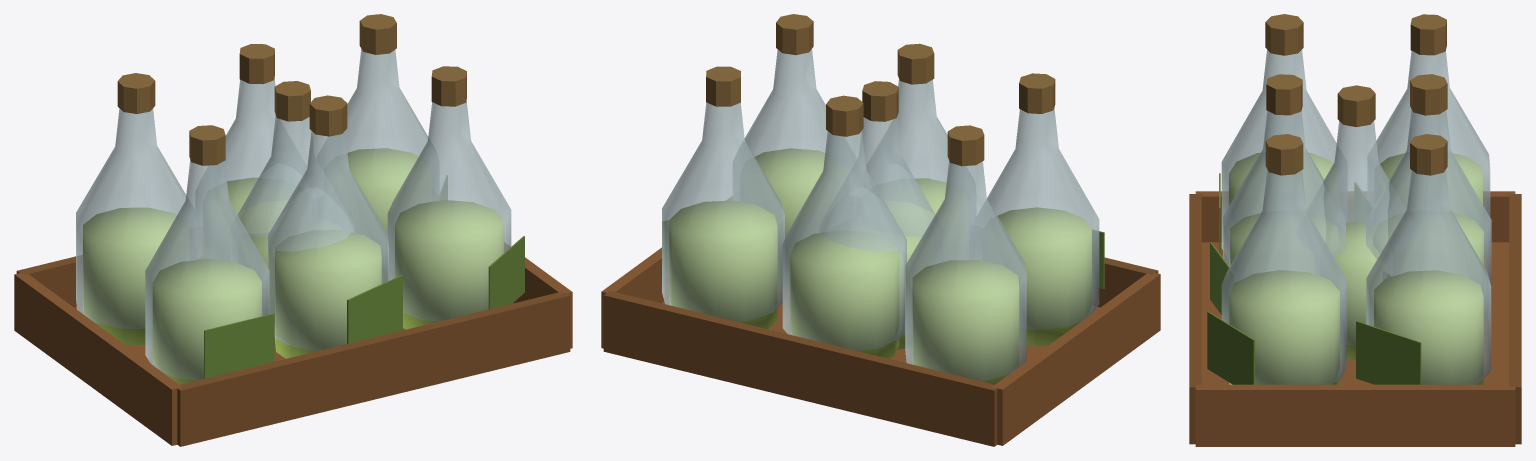
The model's file is Alc_HoneydewWine.fbx.
3 renders of one model, left to right at view 1: azimuth 30°, elevation 25°; view 2: azimuth 150°, elevation 25°; view 3: azimuth 270°, elevation 25°, orthographic.
Visible parts, largest first — view 1: Alc_HoneydewWine__Stack, Alc_HoneydewWine; view 2: Alc_HoneydewWine__Stack, Alc_HoneydewWine; view 3: Alc_HoneydewWine__Stack, Alc_HoneydewWine.
Boxes of the visible parts, x1,y1,x2,y2 form: Alc_HoneydewWine__Stack: [14, 14, 572, 446]; Alc_HoneydewWine: [231, 81, 354, 348]; Alc_HoneydewWine__Stack: [601, 14, 1160, 446]; Alc_HoneydewWine: [819, 81, 941, 349]; Alc_HoneydewWine__Stack: [1189, 14, 1521, 446]; Alc_HoneydewWine: [1307, 85, 1405, 359].
Bounding box in the file's own units: 0.298 × 0.186 × 0.211.
